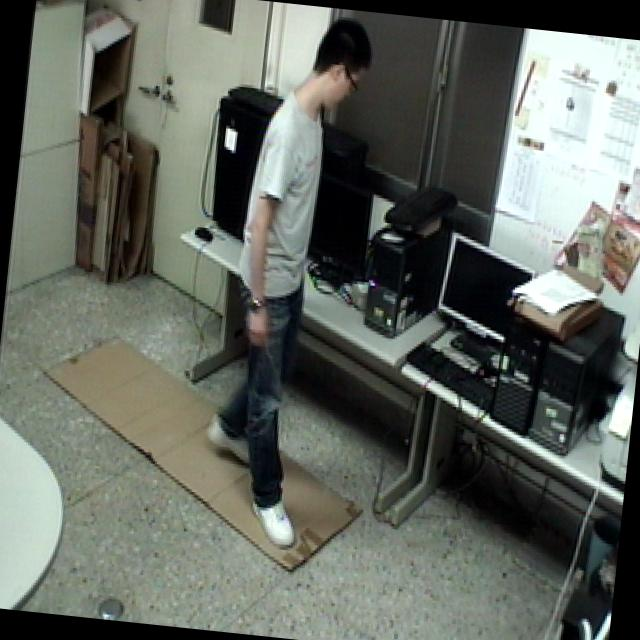stand: (183, 0, 382, 558)
